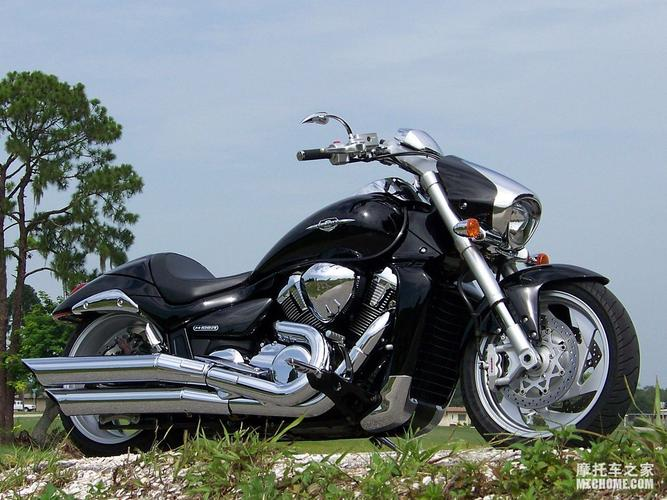摩托车: (46, 96, 649, 459)
